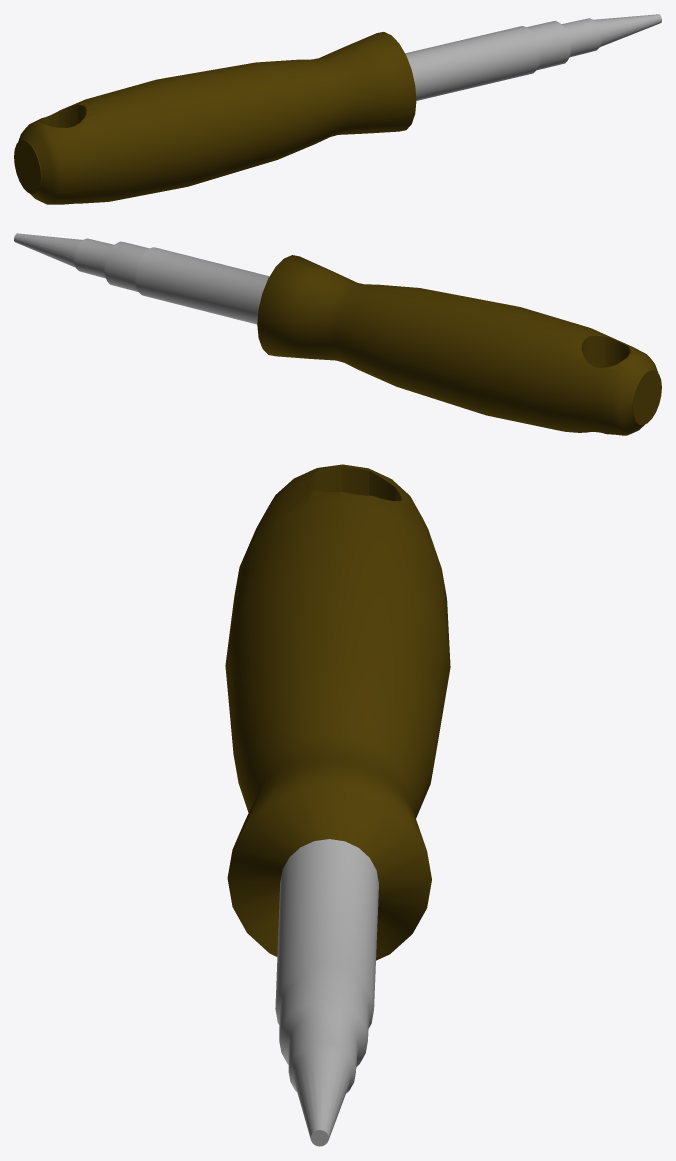
File: ScrewDriver.fbx
3 views of the same model, one above another, from view 1: azimuth 30°, elevation 25°; view 2: azimuth 150°, elevation 25°; view 3: azimuth 270°, elevation 25° (orthographic). The views are drawn at different scales.
Parts seen in each view (by area): view 1: pCylinder53; view 2: pCylinder53; view 3: pCylinder53.
Boxes of the visible parts, bbox=[...] form: pCylinder53: bbox=[14, 14, 661, 204]; pCylinder53: bbox=[14, 233, 661, 435]; pCylinder53: bbox=[225, 464, 450, 1146].
Bounding box in the file's own units: 3.84 × 0.5975 × 0.5974.
